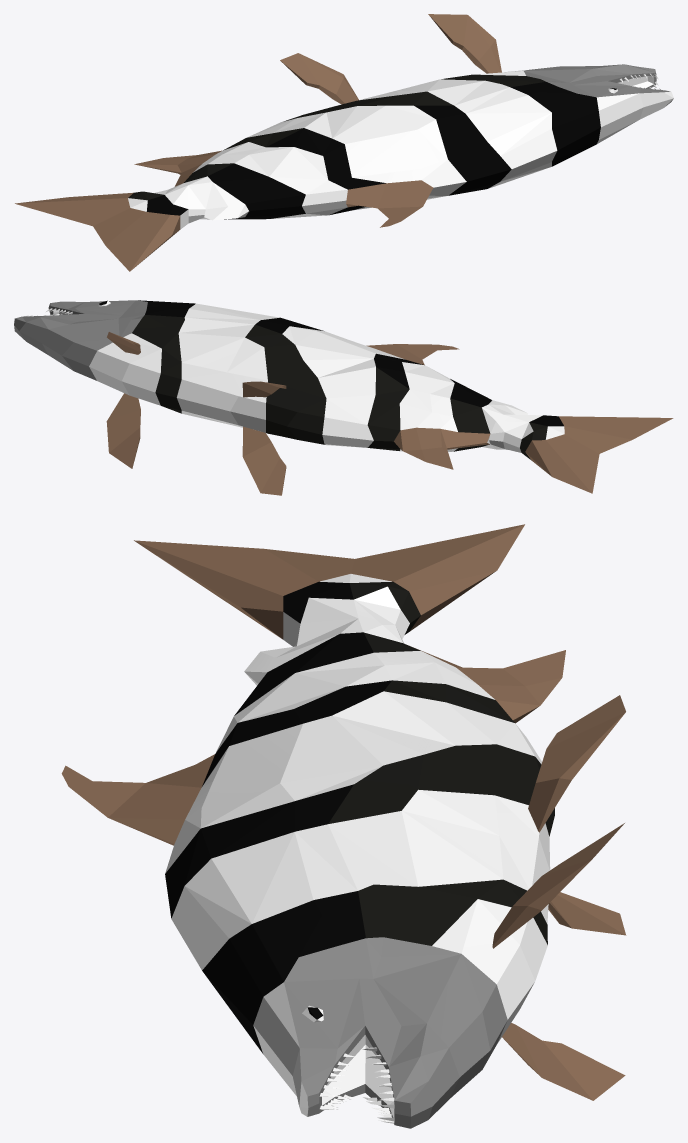
File: TigerfishDrip.glb
3 views of the same model, one above another, from view 1: azimuth 30°, elevation 25°; view 2: azimuth 150°, elevation 25°; view 3: azimuth 270°, elevation 25° (orthographic). The views are drawn at different scales.
Parts seen in each view (by area): view 1: TigerfishDrip; view 2: TigerfishDrip; view 3: TigerfishDrip.
Boxes of the visible parts, x1=… form: TigerfishDrip: x1=15, y1=14, x2=673, y2=271; TigerfishDrip: x1=14, y1=300, x2=673, y2=495; TigerfishDrip: x1=61, y1=524, x2=626, y2=1128.
Bounding box in the file's own units: 1.04 × 0.2072 × 0.4189.
1 material, 1 textured.
